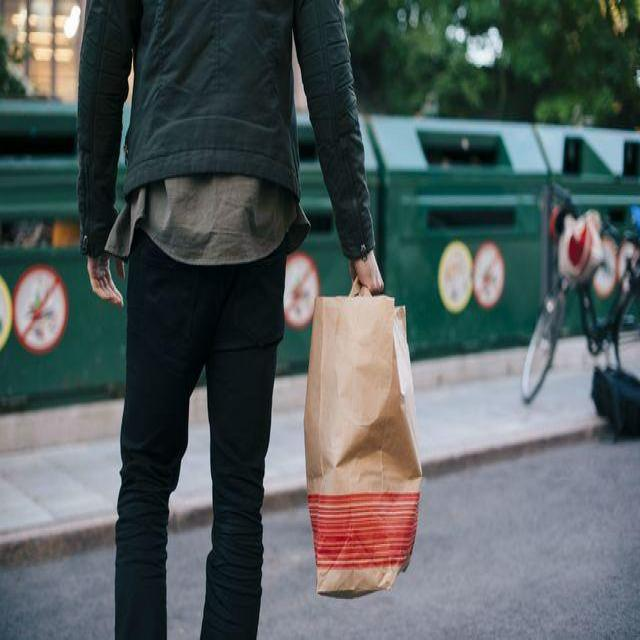paper: (300, 265, 429, 602)
